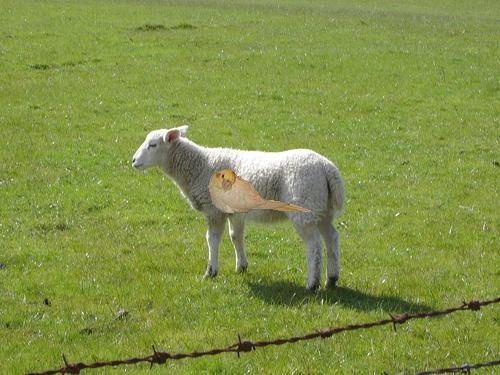tampered: (209, 169, 316, 213)
